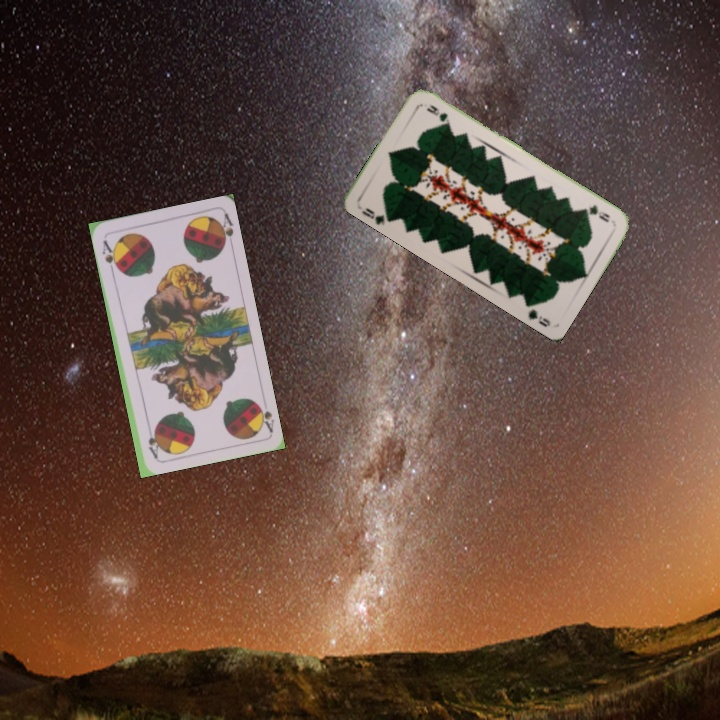G9: (358, 204, 395, 228), (578, 200, 612, 225)
SA: (251, 398, 276, 435), (98, 236, 121, 275)
